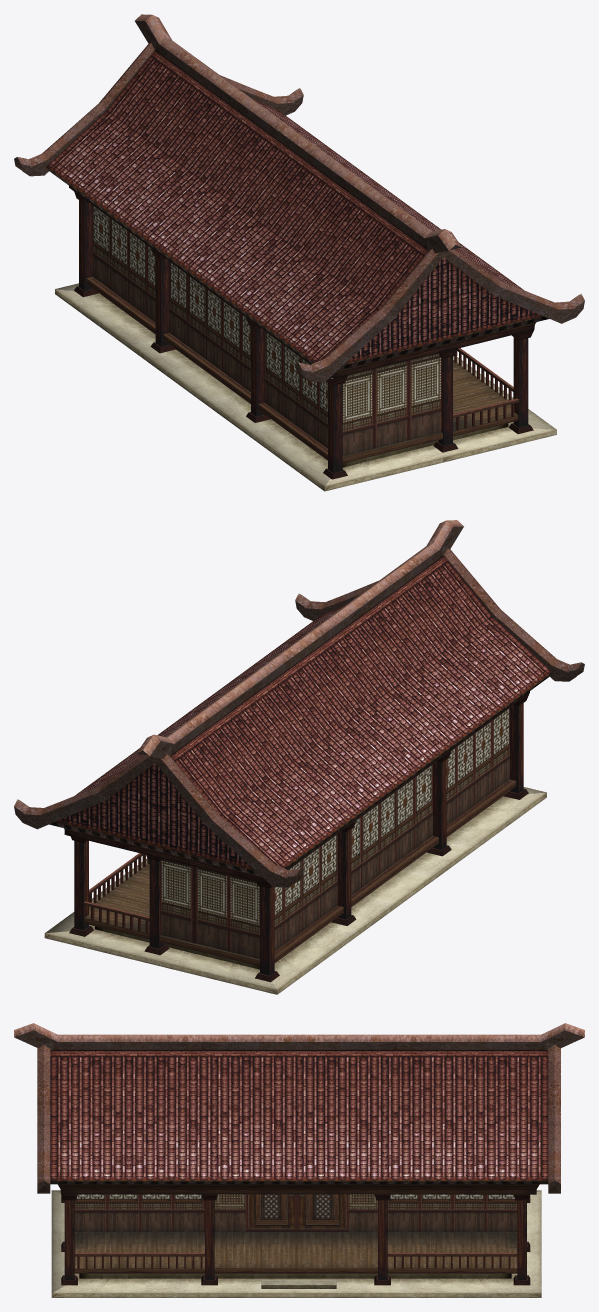
Rendered from a1-033-guesthouse-02.fbx.
3 views of the same model, one above another, from view 1: azimuth 30°, elevation 25°; view 2: azimuth 150°, elevation 25°; view 3: azimuth 270°, elevation 25° (orthographic). The views are drawn at different scales.
Parts seen in each view (by area): view 1: 033-02; view 2: 033-02; view 3: 033-02.
Part boxes in pixels (<box>): 033-02: <box>14,14,584,491</box>; 033-02: <box>14,520,584,994</box>; 033-02: <box>14,1023,584,1297</box>.
Size of the model in its own units: 14.1 by 11.57 by 27.14.
